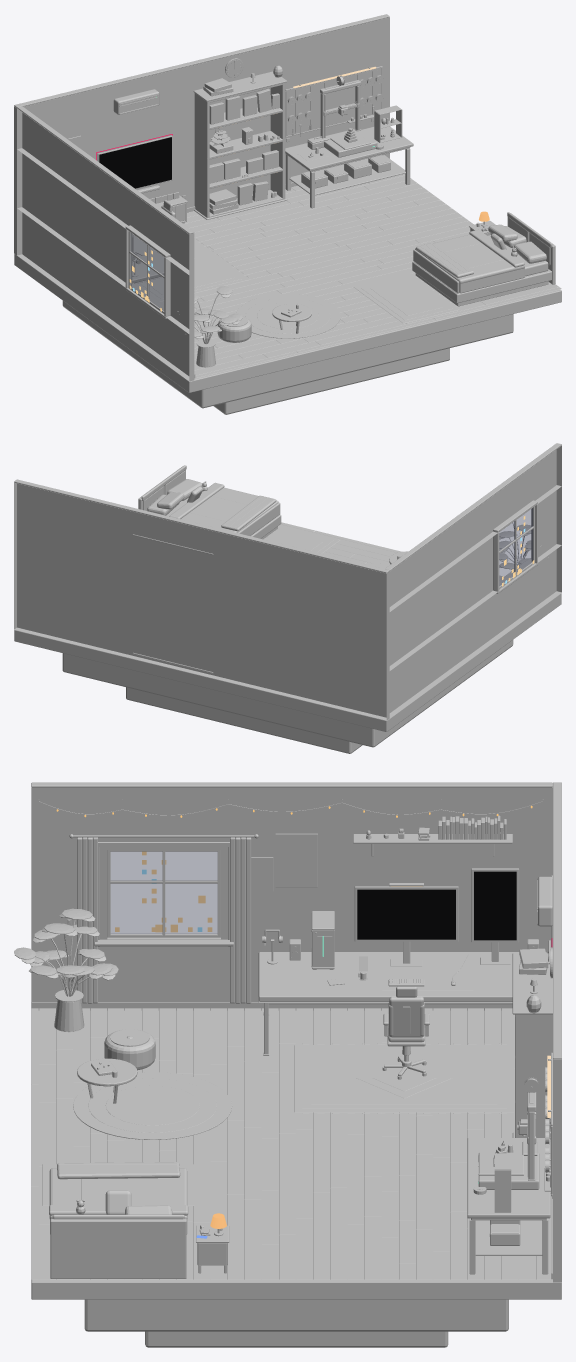
Rendered from room.glb.
The picture shows the model from 3 angles, top to bottom: view 1: azimuth 30°, elevation 25°; view 2: azimuth 150°, elevation 25°; view 3: azimuth 270°, elevation 25°; orthographic projection. The views are drawn at different scales.
Visible parts, largest first — view 1: zone_room, zone_games, zone_bed, zone_maker, screen_tv, glass_window, printer_root, zone_desk; view 2: zone_room, zone_bed, glass_window, zone_games; view 3: zone_room, zone_desk, zone_bed, zone_maker, glass_window, zone_games, screen_monitor_main, screen_monitor_vertical, chair_root, printer_root.
Boxes of the visible parts, x1,y1,x2,y2 form: zone_room: [14, 14, 561, 414]; zone_games: [97, 65, 287, 223]; zone_bed: [353, 212, 555, 323]; zone_maker: [285, 66, 413, 208]; screen_tv: [99, 137, 171, 188]; glass_window: [130, 233, 163, 310]; printer_root: [320, 75, 377, 157]; zone_desk: [36, 148, 164, 283]; zone_room: [14, 443, 561, 753]; zone_bed: [138, 465, 339, 553]; glass_window: [499, 508, 532, 585]; zone_games: [132, 534, 213, 673]; zone_room: [14, 782, 561, 1347]; zone_desk: [258, 815, 546, 1055]; zone_bed: [42, 1162, 229, 1278]; zone_maker: [467, 1052, 552, 1274]; glass_window: [111, 852, 217, 933]; zone_games: [512, 940, 552, 1193]; screen_monitor_main: [357, 889, 455, 939]; screen_monitor_vertical: [474, 871, 516, 940]; chair_root: [382, 986, 429, 1079]; printer_root: [478, 1077, 539, 1189].
Size of the model in its own units: 8.6 by 5.03 by 7.23.
